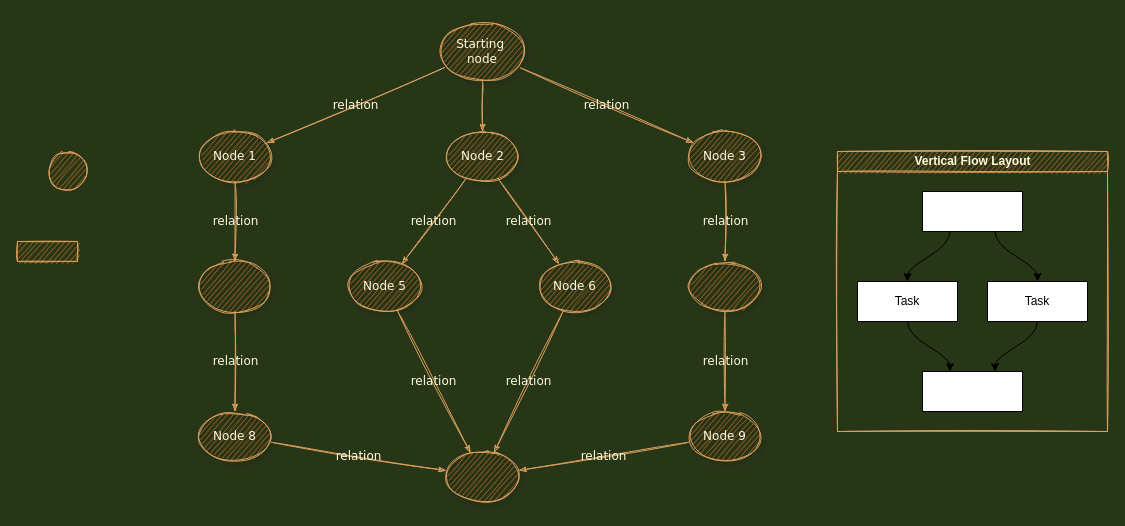
The diagram is 1125 pixels wide and 526 high, and some of its shapes have lost their labels. Here are the shapes that lost their labels. From the top down, the centre of each, then its label:
At point 972,211: "Start".
At point 235,287: "Node 4".
At point 725,287: "Node 7".
At point 972,391: "End".
At point 483,477: "End node".
